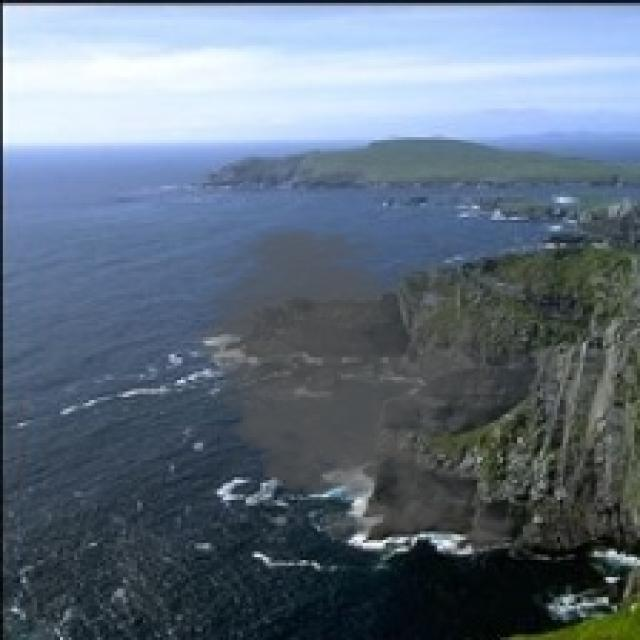smoke: (174, 220, 557, 563)
